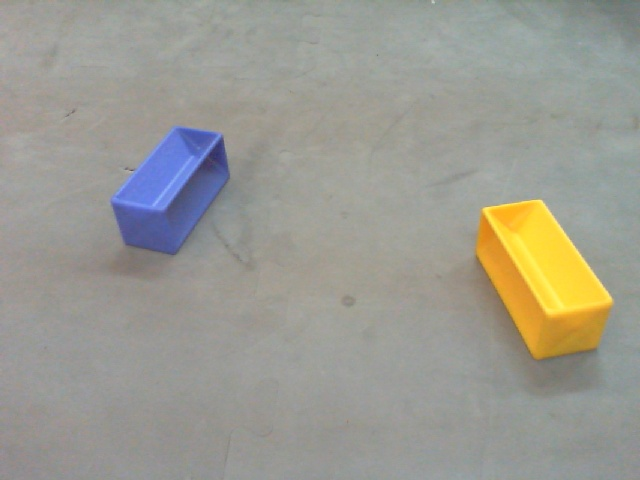BlueSample: (105, 123, 241, 255)
YellowSample: (472, 196, 614, 364)
